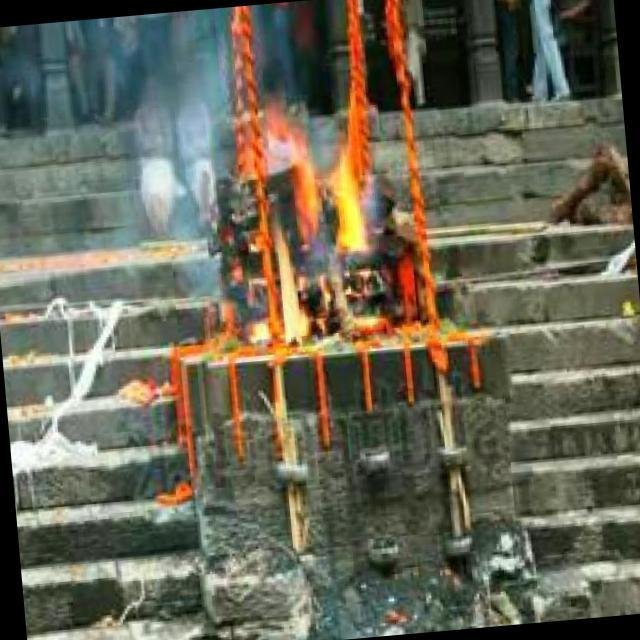Fire: (246, 131, 382, 356)
